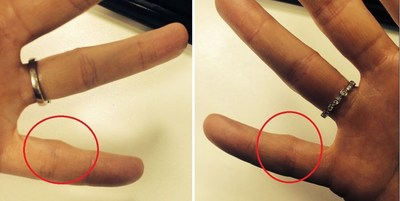mindinho: (200, 102, 344, 196), (5, 117, 161, 197)
